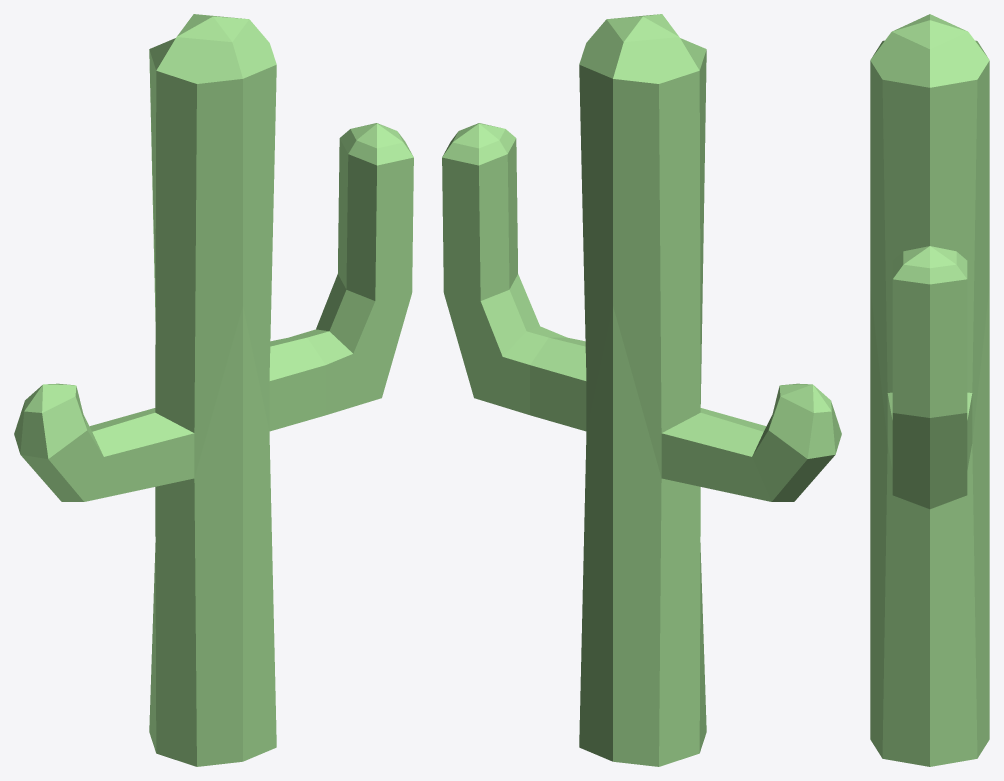
Rendered from Cactus.fbx.
3 renders of one model, left to right at view 1: azimuth 30°, elevation 25°; view 2: azimuth 150°, elevation 25°; view 3: azimuth 270°, elevation 25°, orthographic.
Visible parts, largest first — view 1: pCube1; view 2: pCube1; view 3: pCube1.
Boxes of the visible parts, bbox=[...] form: pCube1: bbox=[14, 14, 413, 766]; pCube1: bbox=[442, 14, 841, 766]; pCube1: bbox=[870, 14, 989, 766].
Size of the model in its own units: 11.41 by 20.49 by 3.08.
